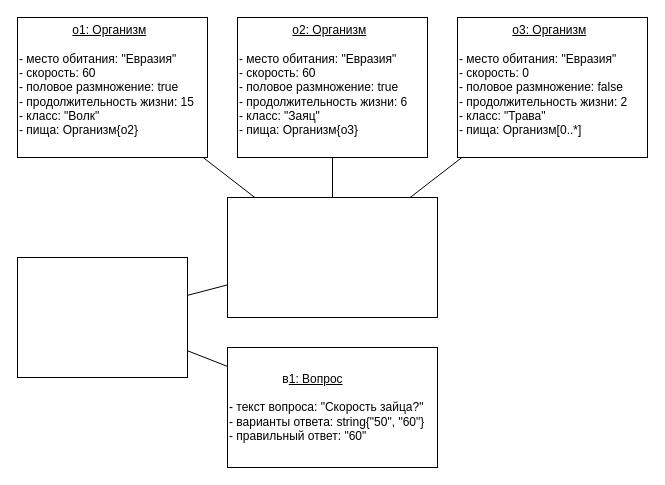
This 665x485 diagram has some shape labels left out. The shapes that lost their labels are listed below. From the top down, each one's centre as x and y in pixels, then its label:
At pixel 332 257: "g 1: GUI - организмы: Организм{о1, о2, о3} - тесты: Тест{т1}".
At pixel 102 317: "т 1: Тест - количество вопросов: 1 - вопросы: Вопрос{в1}".
